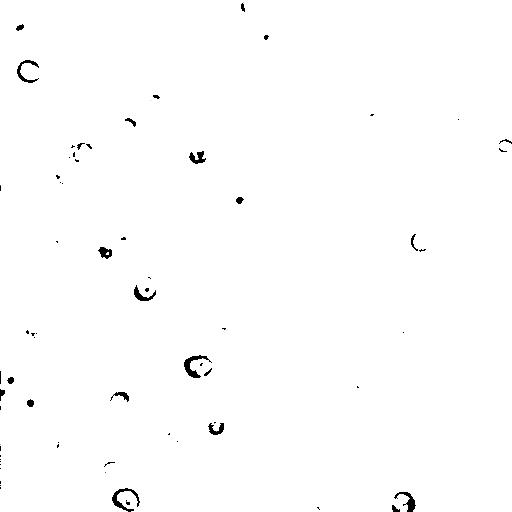micro-algae: (253, 0, 362, 101), (388, 110, 459, 180), (1, 129, 68, 200), (403, 464, 465, 512), (152, 353, 205, 403), (197, 131, 239, 175), (216, 313, 259, 355), (112, 109, 149, 143), (67, 136, 102, 170), (110, 224, 143, 256), (388, 321, 423, 350), (41, 234, 74, 263), (456, 279, 491, 306), (348, 370, 379, 398), (482, 0, 511, 28), (6, 13, 32, 43), (53, 429, 79, 459), (183, 354, 214, 379), (18, 323, 45, 351), (431, 217, 457, 246), (133, 274, 158, 303), (138, 444, 170, 466), (15, 59, 43, 84), (49, 165, 78, 189), (112, 488, 140, 512), (17, 392, 40, 417), (390, 491, 417, 512), (50, 499, 91, 512), (260, 104, 283, 127), (253, 26, 278, 47), (360, 100, 383, 122), (109, 388, 129, 413), (239, 0, 266, 18), (94, 237, 114, 261), (207, 413, 227, 437), (411, 230, 431, 253), (302, 495, 328, 512), (448, 116, 468, 136), (182, 144, 199, 167), (229, 193, 251, 209), (0, 383, 14, 406), (102, 460, 123, 475), (2, 371, 20, 388), (166, 425, 183, 443), (197, 147, 210, 167), (446, 78, 461, 94), (42, 0, 67, 9), (498, 138, 512, 154)
